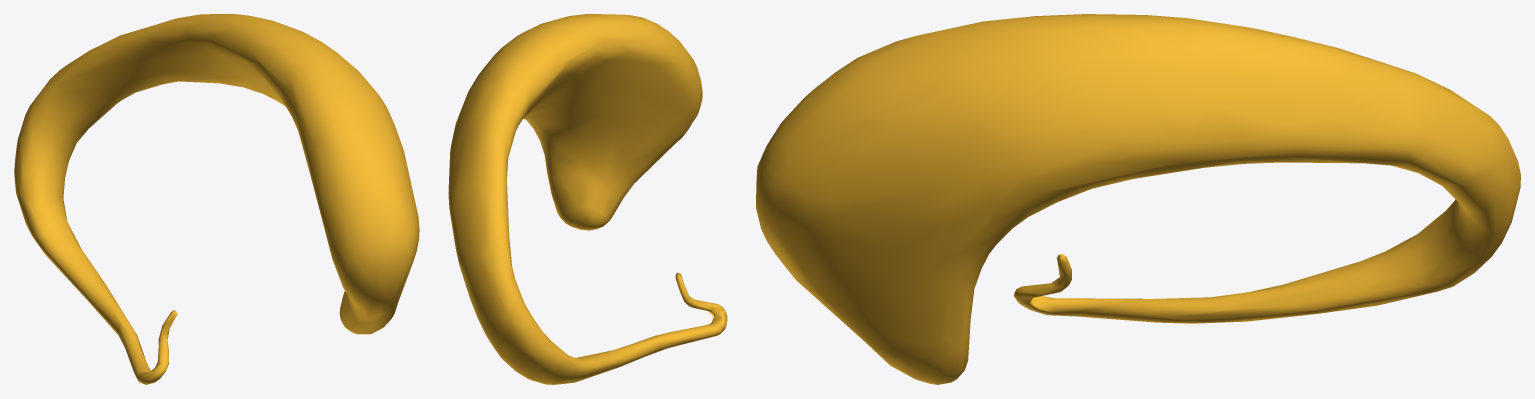
File: nervoso-caudate-nucleus-r.glb
3 views of the same model, side by side, from view 1: azimuth 30°, elevation 25°; view 2: azimuth 150°, elevation 25°; view 3: azimuth 270°, elevation 25° (orthographic). The views are drawn at different scales.
Visible parts, largest first — view 1: Caudate nucleus.r; view 2: Caudate nucleus.r; view 3: Caudate nucleus.r.
Part boxes in pixels (x1,y1,x2,y2): Caudate nucleus.r: [14, 14, 419, 384]; Caudate nucleus.r: [448, 14, 727, 384]; Caudate nucleus.r: [756, 14, 1520, 384].
Size of the model in its own units: 0.0308 by 0.0359 by 0.0616.
